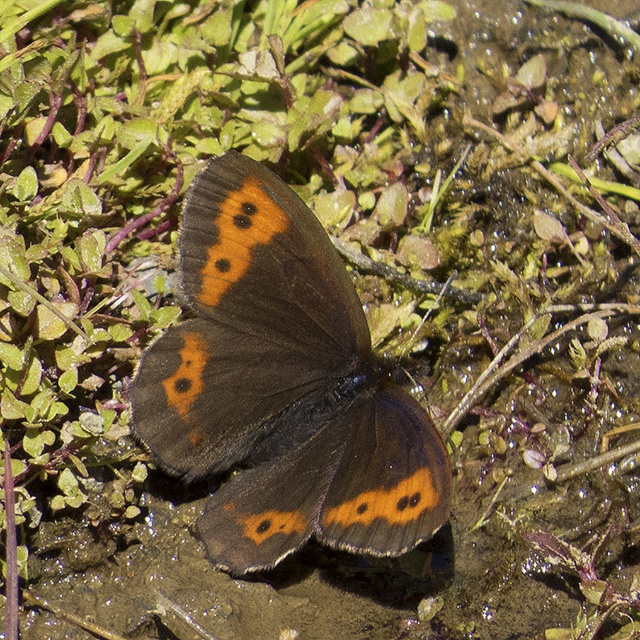Butterfly: (123, 146, 455, 576)
